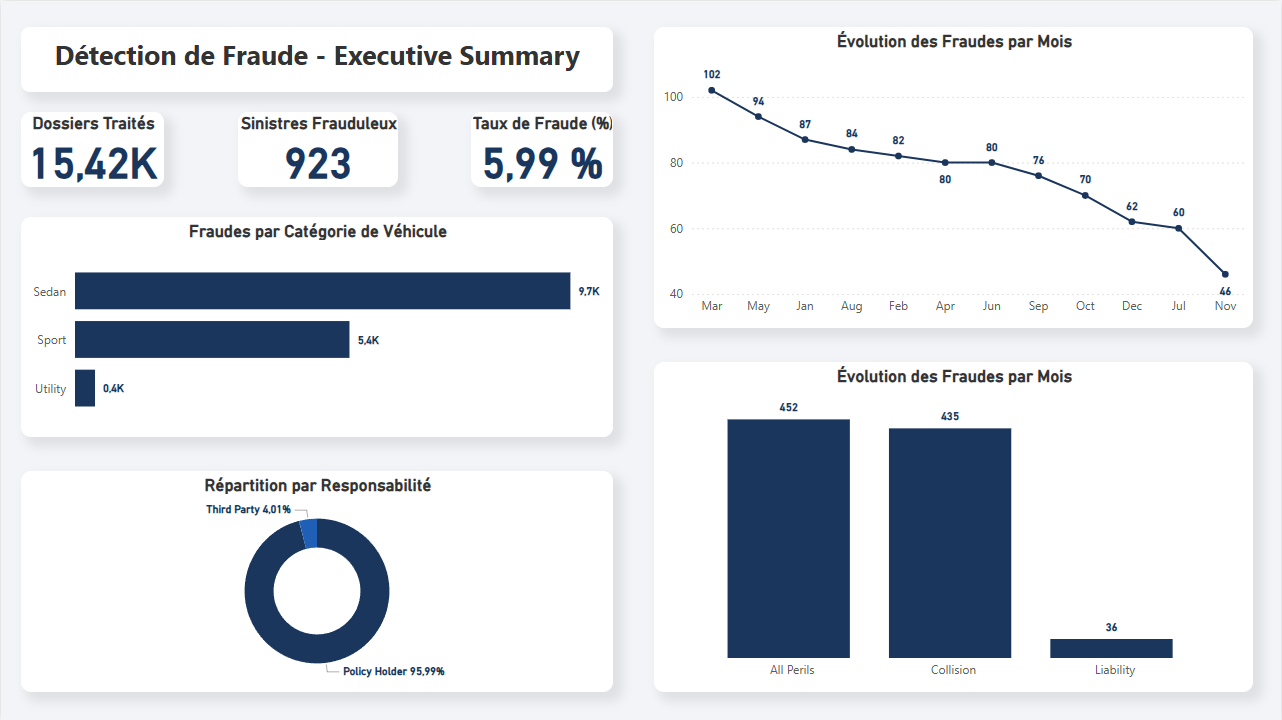

Layout of this report page (visuals, bound fields, positions):
{"tool":"powerbi","page":{"name":"Page 1","canvas":[1280,720],"ordinal":0},"visuals":[{"type":"card","title":"Dossiers Traités","fields":{"Values":["CountNonNull(carclaims.PolicyNumber)"]},"box":[19.6,111,143.7,75.1],"z":0},{"type":"textbox","box":[19.6,26.1,592.7,65.3],"z":1},{"type":"card","title":"Sinistres Frauduleux","fields":{"Values":["CountNonNull(carclaims.PolicyNumber)"]},"box":[236.7,111,160,75.1],"z":2},{"type":"card","title":"Taux de Fraude (%)","fields":{"Values":["carclaims.Taux de Fraude"]},"box":[470.2,111,142,75.1],"z":3},{"type":"barChart","title":"Fraudes par Catégorie de Véhicule","fields":{"Category":["carclaims.VehicleCategory"],"Y":["Count(carclaims.PolicyNumber)"]},"box":[19.6,215.5,592.7,220.4],"z":4},{"type":"donutChart","title":"Répartition par Responsabilité","fields":{"Category":["carclaims.Fault"],"Y":["Count(carclaims.PolicyNumber)"]},"box":[19.6,470.2,592.7,220.4],"z":5},{"type":"lineChart","title":"Évolution des Fraudes par Mois","fields":{"Y":["Count(carclaims.PolicyNumber)"],"Category":["carclaims.Month"]},"box":[653.1,26.1,599.2,300.4],"z":6},{"type":"clusteredColumnChart","title":"Évolution des Fraudes par Mois","fields":{"Y":["Count(carclaims.PolicyNumber)"],"Category":["carclaims.BasePolicy"]},"box":[653.1,360.8,599.2,329.8],"z":7}]}

Visuals, with their boxes in screenshot pixels (x1, y1, x2, y2), scaled from the page's 1280x720 canvas onto the 1282x720 screenshot:
"Dossiers Traités" card: detection(20, 111, 164, 186)
textbox: detection(20, 26, 613, 91)
"Sinistres Frauduleux" card: detection(237, 111, 397, 186)
"Taux de Fraude (%)" card: detection(471, 111, 613, 186)
"Fraudes par Catégorie de Véhicule" barChart: detection(20, 216, 613, 436)
"Répartition par Responsabilité" donutChart: detection(20, 470, 613, 691)
"Évolution des Fraudes par Mois" lineChart: detection(654, 26, 1254, 326)
"Évolution des Fraudes par Mois" clusteredColumnChart: detection(654, 361, 1254, 691)
